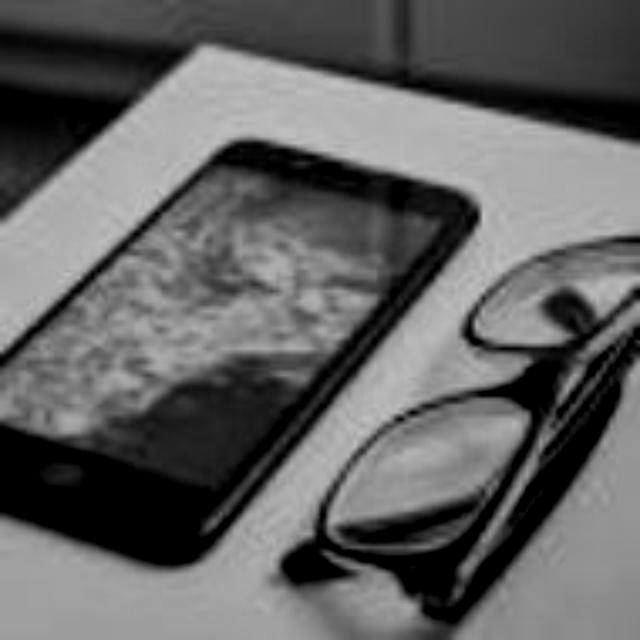fake: (15, 144, 640, 590)
